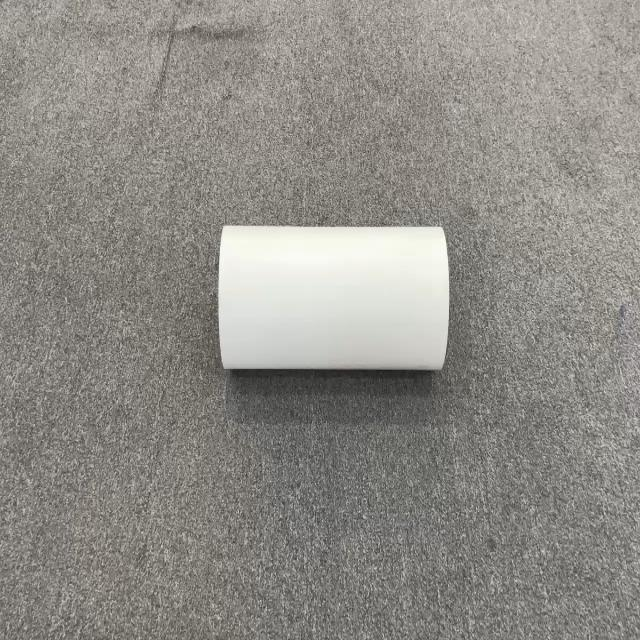coral: (217, 223, 449, 373)
